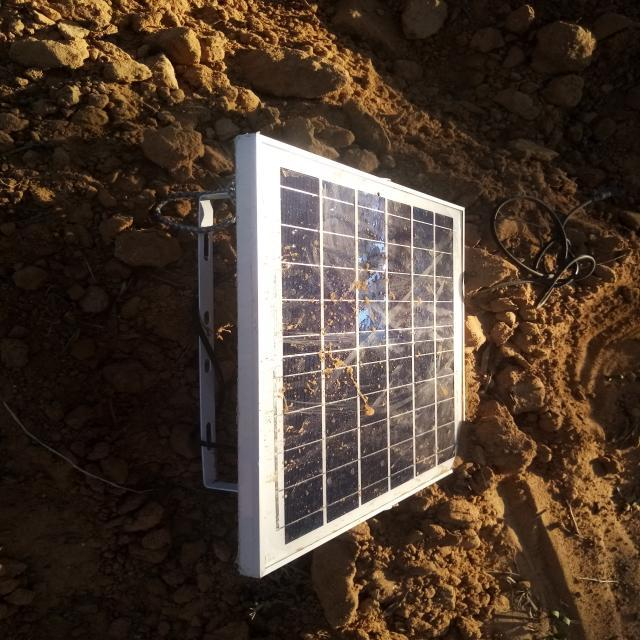faulty: (258, 142, 468, 572)
